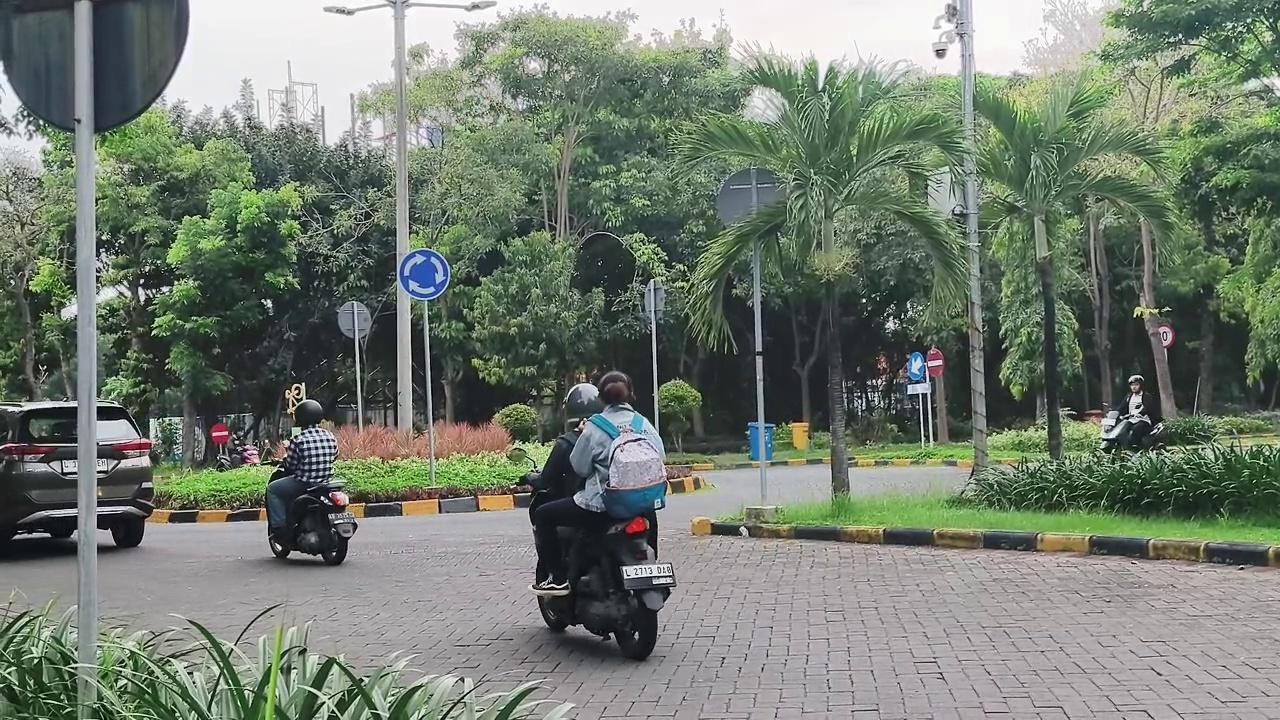Helmet: (531, 423, 612, 596), (266, 400, 337, 537), (528, 383, 604, 501), (1121, 374, 1161, 448)
Motor: (539, 516, 675, 659), (268, 481, 357, 565), (1100, 407, 1163, 453), (215, 443, 261, 471)
